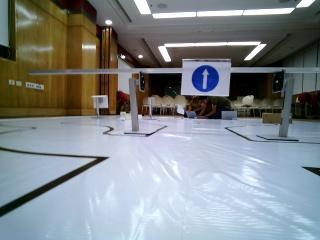straight: (182, 57, 231, 98)
